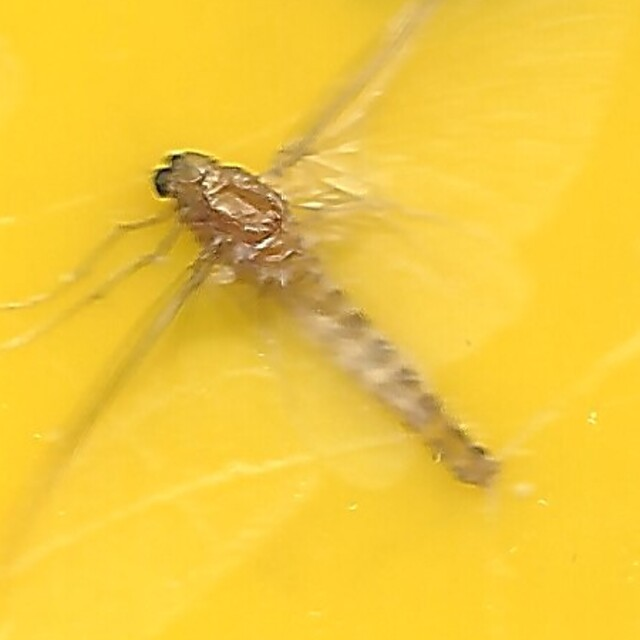Ephemeroptera: (142, 147, 498, 493)
